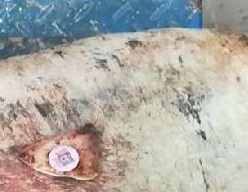text: (39, 138, 93, 180)
